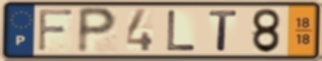4: (125, 7, 155, 54)
8: (250, 7, 282, 54)
F: (36, 8, 76, 54)
L: (165, 9, 198, 52)
P: (75, 6, 120, 56)
T: (208, 9, 240, 53)
